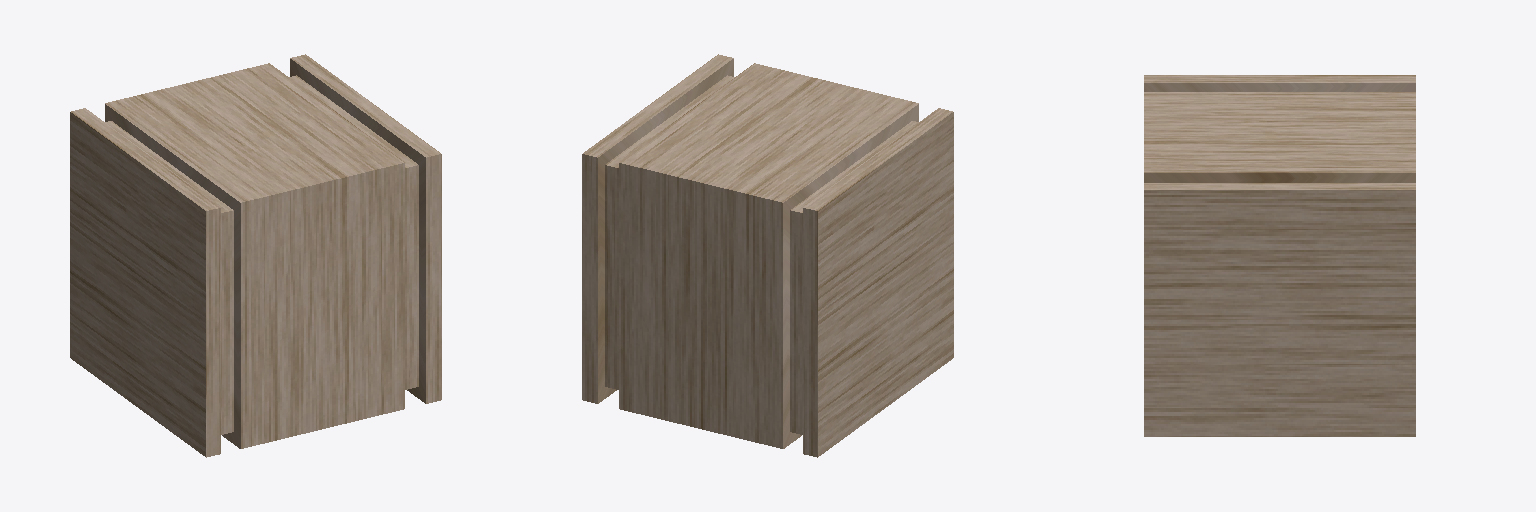
The picture shows the model from 3 angles: view 1: azimuth 30°, elevation 25°; view 2: azimuth 150°, elevation 25°; view 3: azimuth 270°, elevation 25°; orthographic projection.
Visible parts, largest first — view 1: pCube1; view 2: pCube1; view 3: pCube1.
Part boxes in pixels (bbox=[...]): pCube1: bbox=[70, 54, 441, 457]; pCube1: bbox=[582, 54, 953, 457]; pCube1: bbox=[1144, 75, 1415, 436].
Bounding box in the file's own units: 1 × 1 × 1.
Materials: 1 (1 with a texture image).